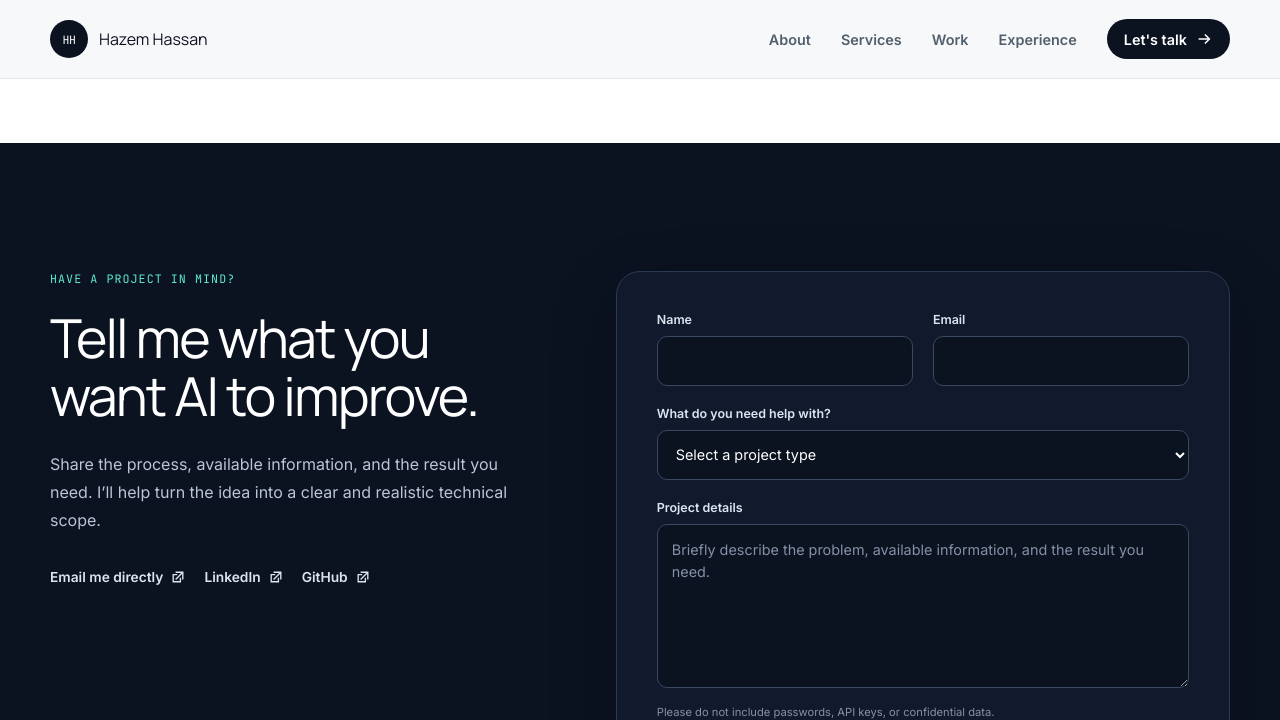
Test: portfolio homepage › submits a project enquiry and confirms delivery
(page scrolled)
Step 1. Type "Mona Client" into the field labelled "Name" → coordinates (785, 361), box [657,336,913,386]
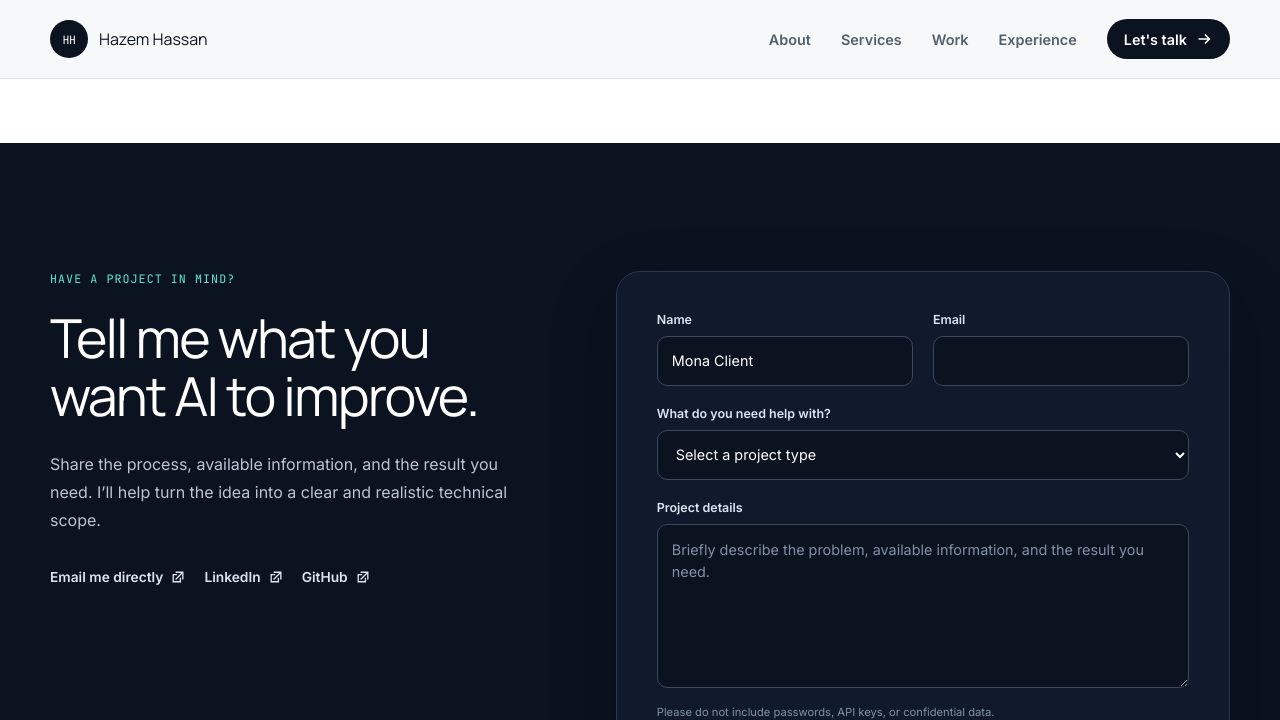
Step 2. Type "mona@example.com" into the field labelled "Email" → coordinates (1061, 361), box [933,336,1189,386]
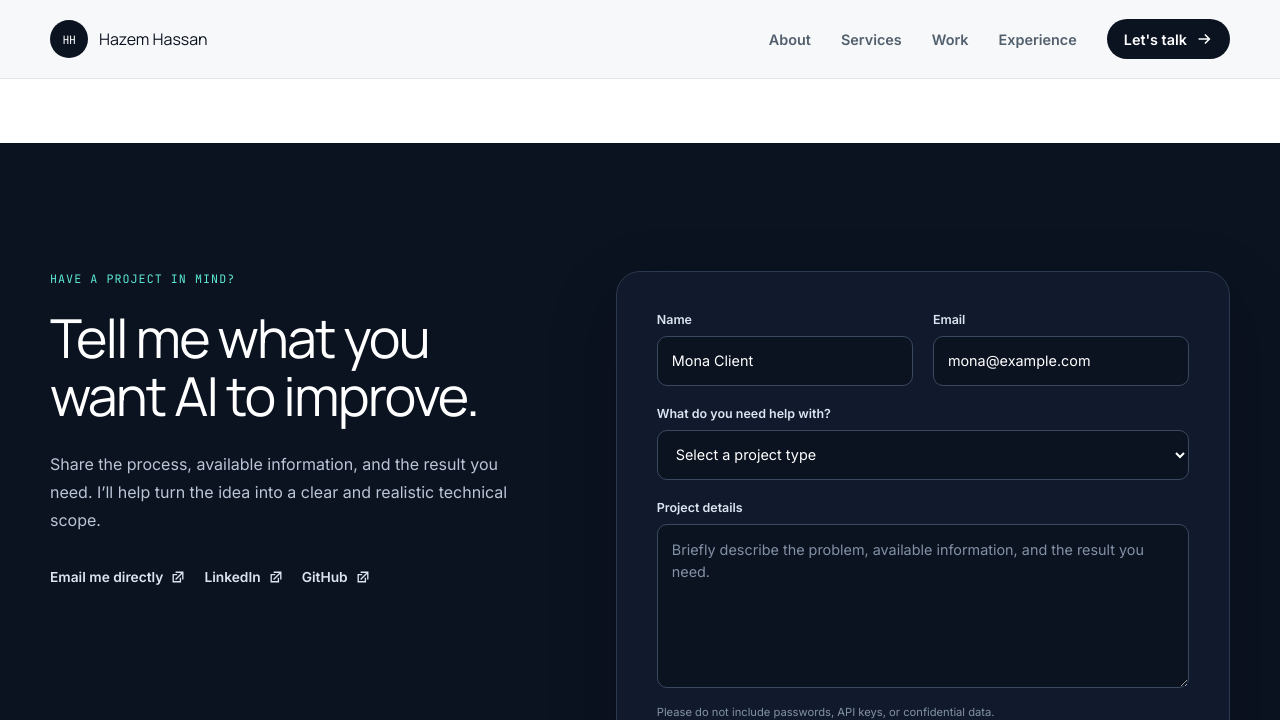
Step 3. Select "AI assistant" in the dropdown labelled "What do you need help with?" → coordinates (923, 455), box [657,430,1189,480]
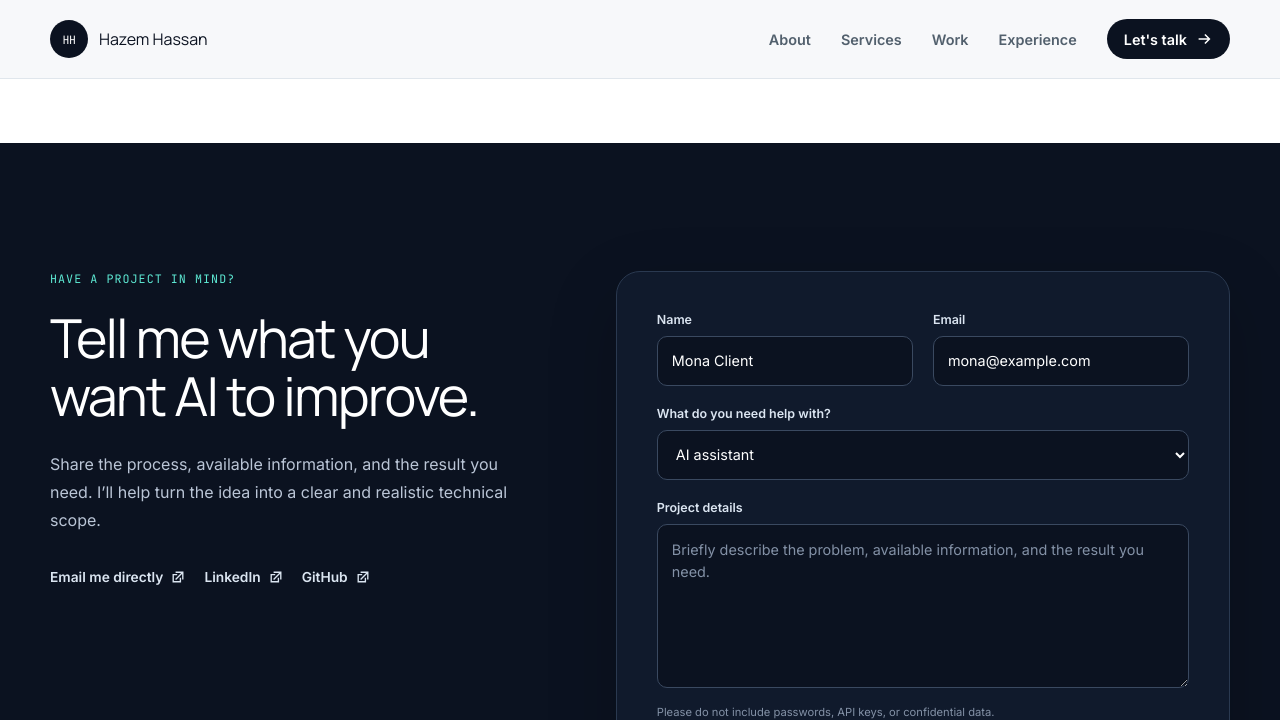
Step 4. Replace the text in the text box labelled "Project details" with "I need an assistant that can search our internal documents." → coordinates (923, 606), box [657,524,1189,688]
(page scrolled)
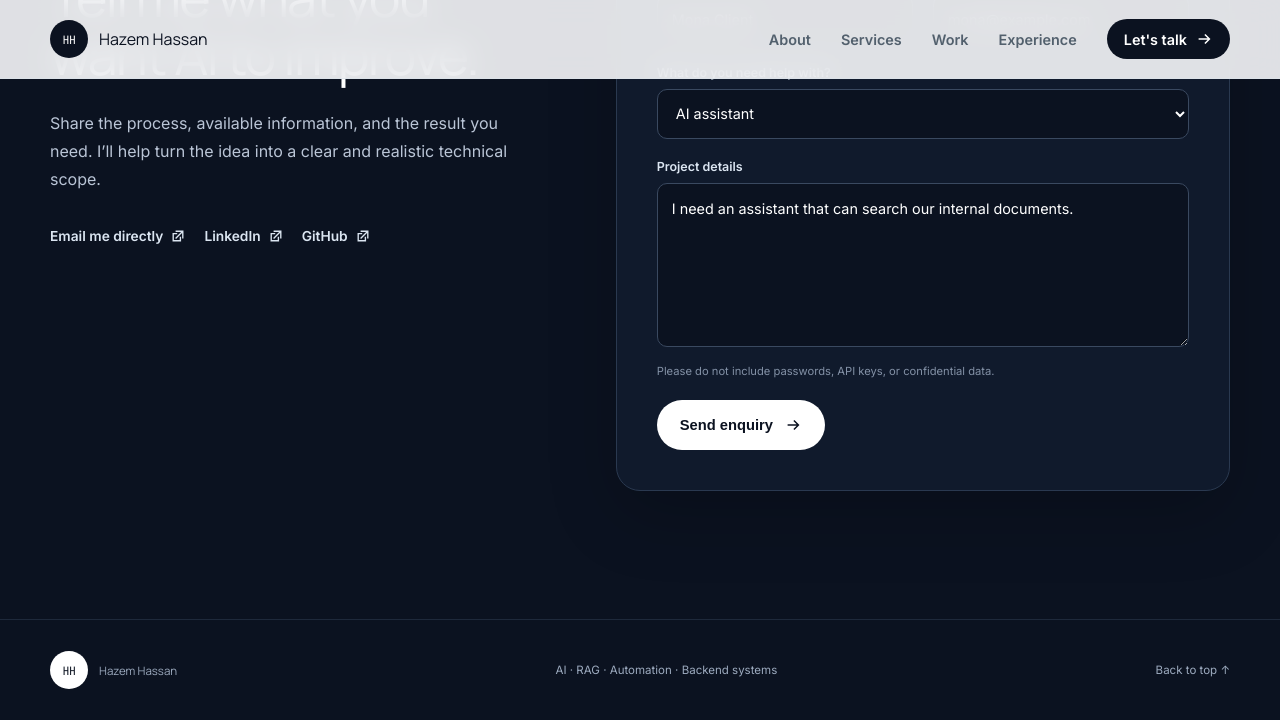
Step 5. Click the button "Send enquiry" → coordinates (741, 425), box [657,400,825,450]
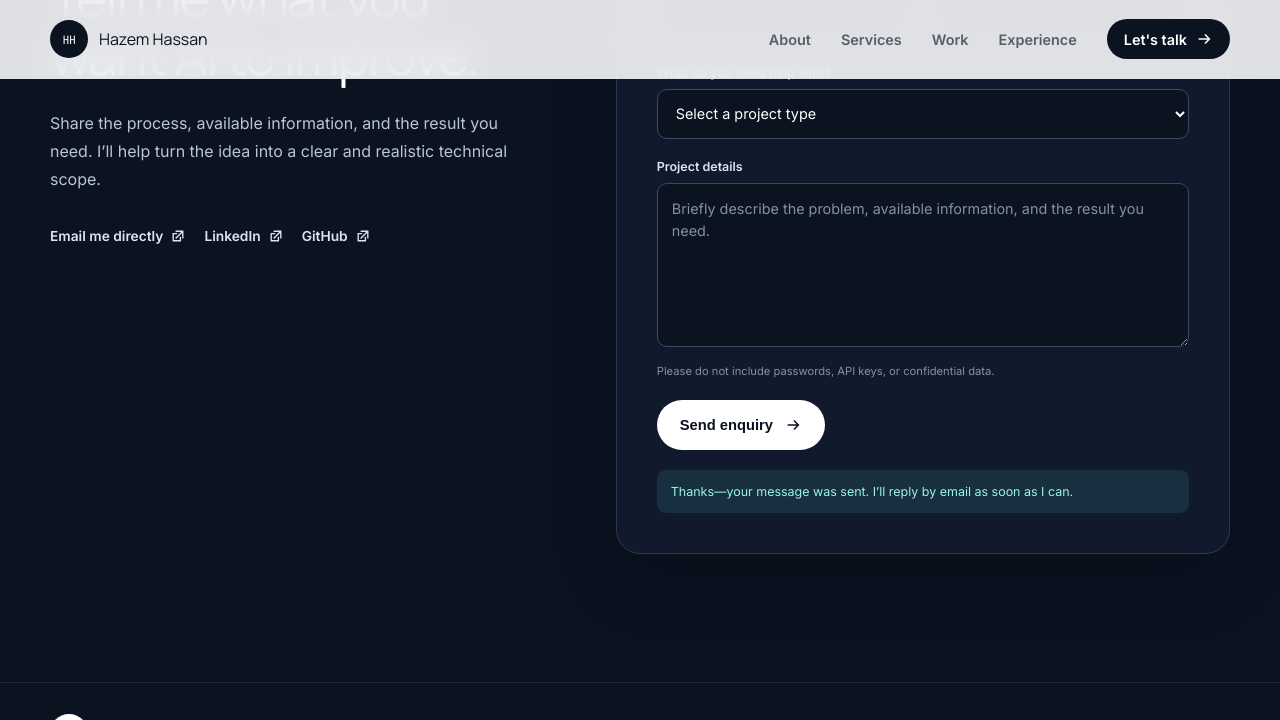
expect the message shows "message was sent": met, box [671,484,1073,499]
